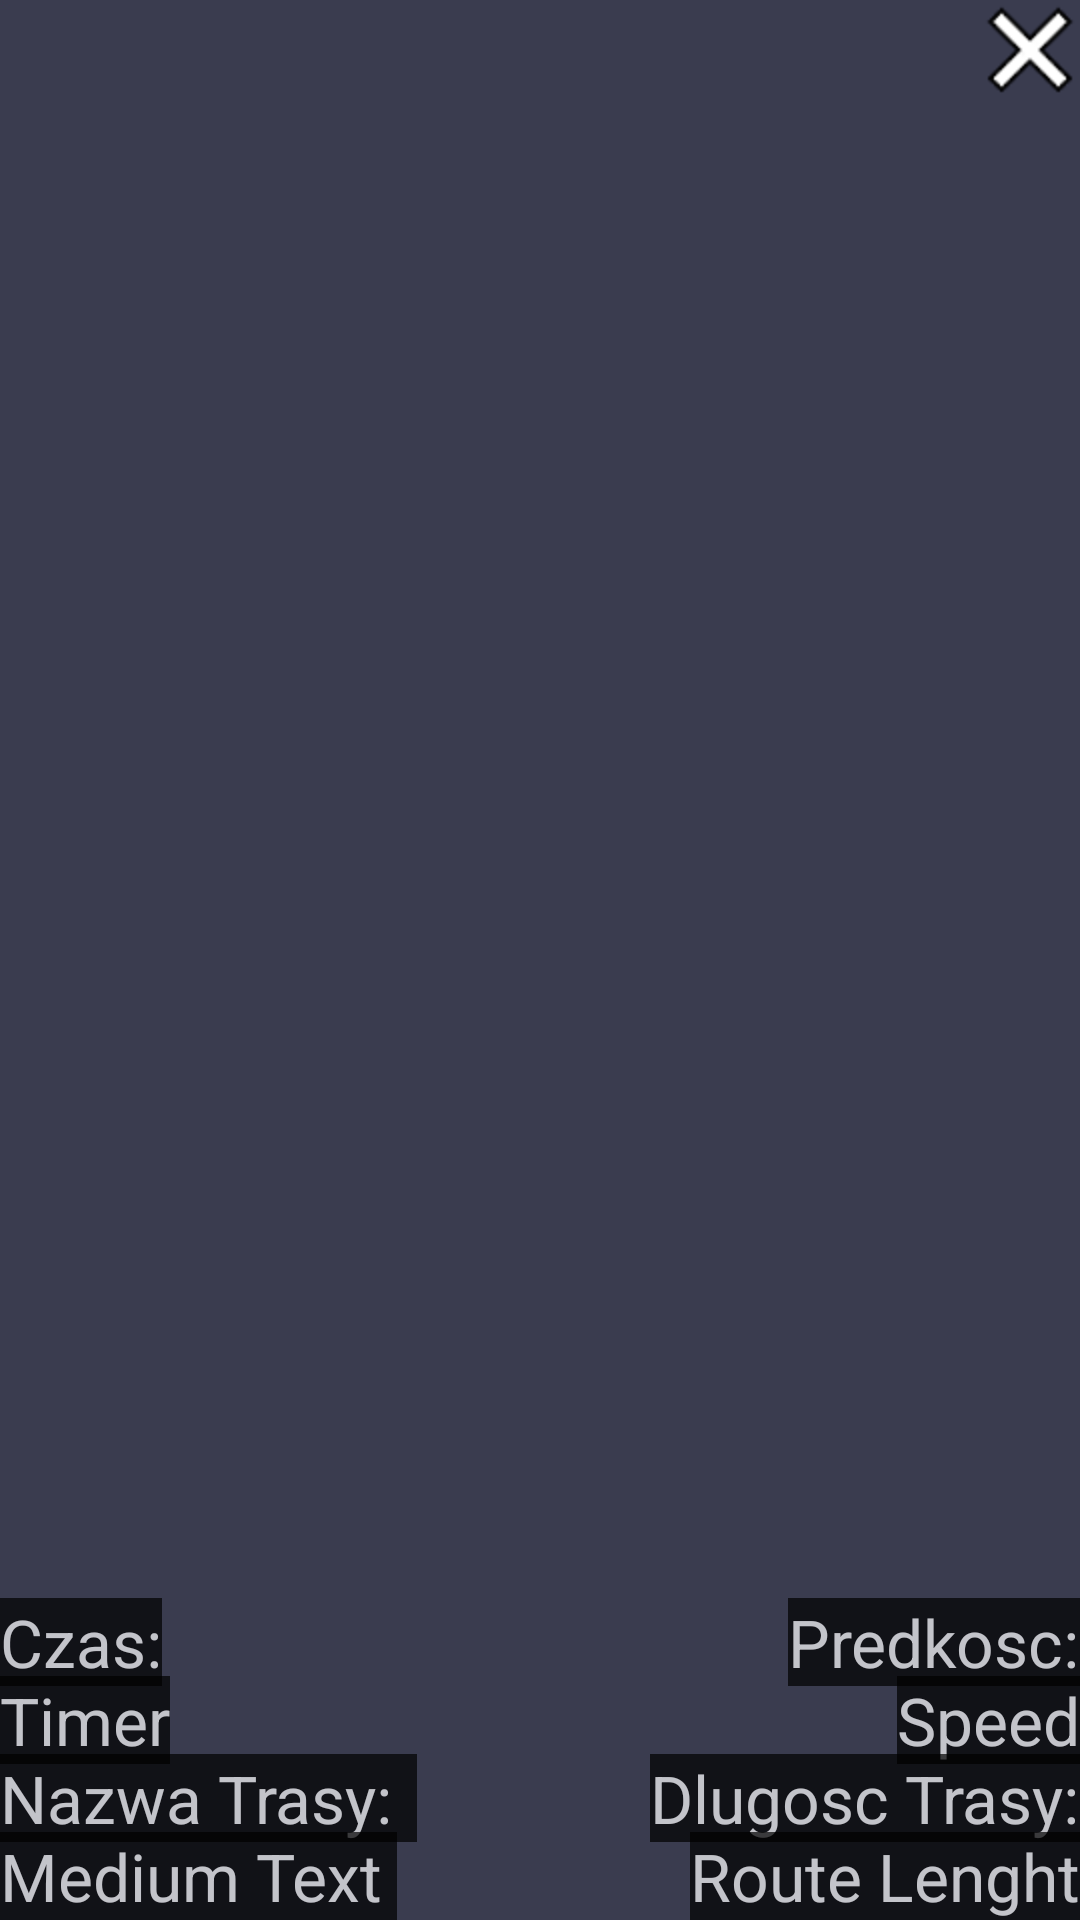

Named icons in this screenshot (1080px x 1920px) and their bounding boxes, (x1, y1, x2, y2):
res hud quitbutton: (988, 8, 1072, 92)
